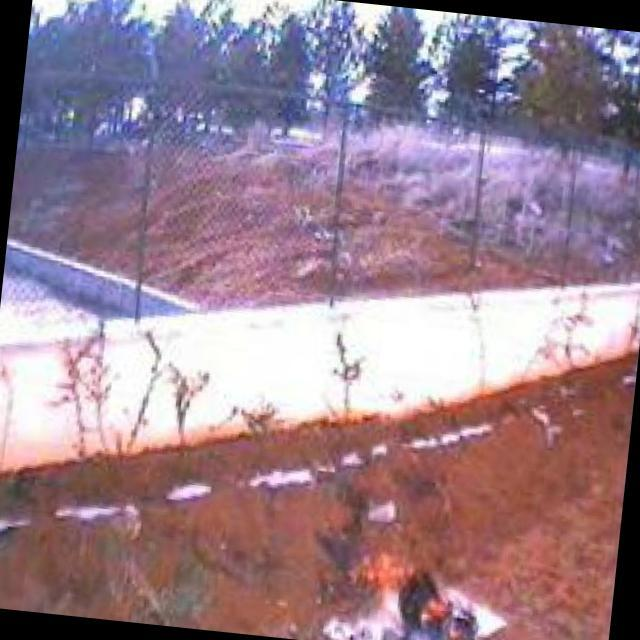Fire: (335, 543, 496, 640)
